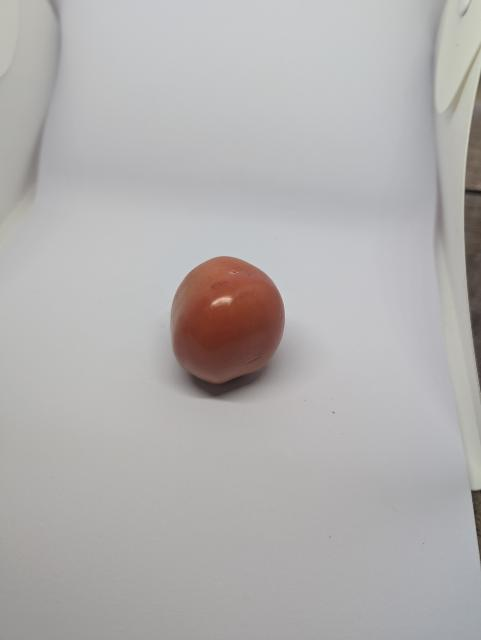red: (154, 250, 298, 399)
